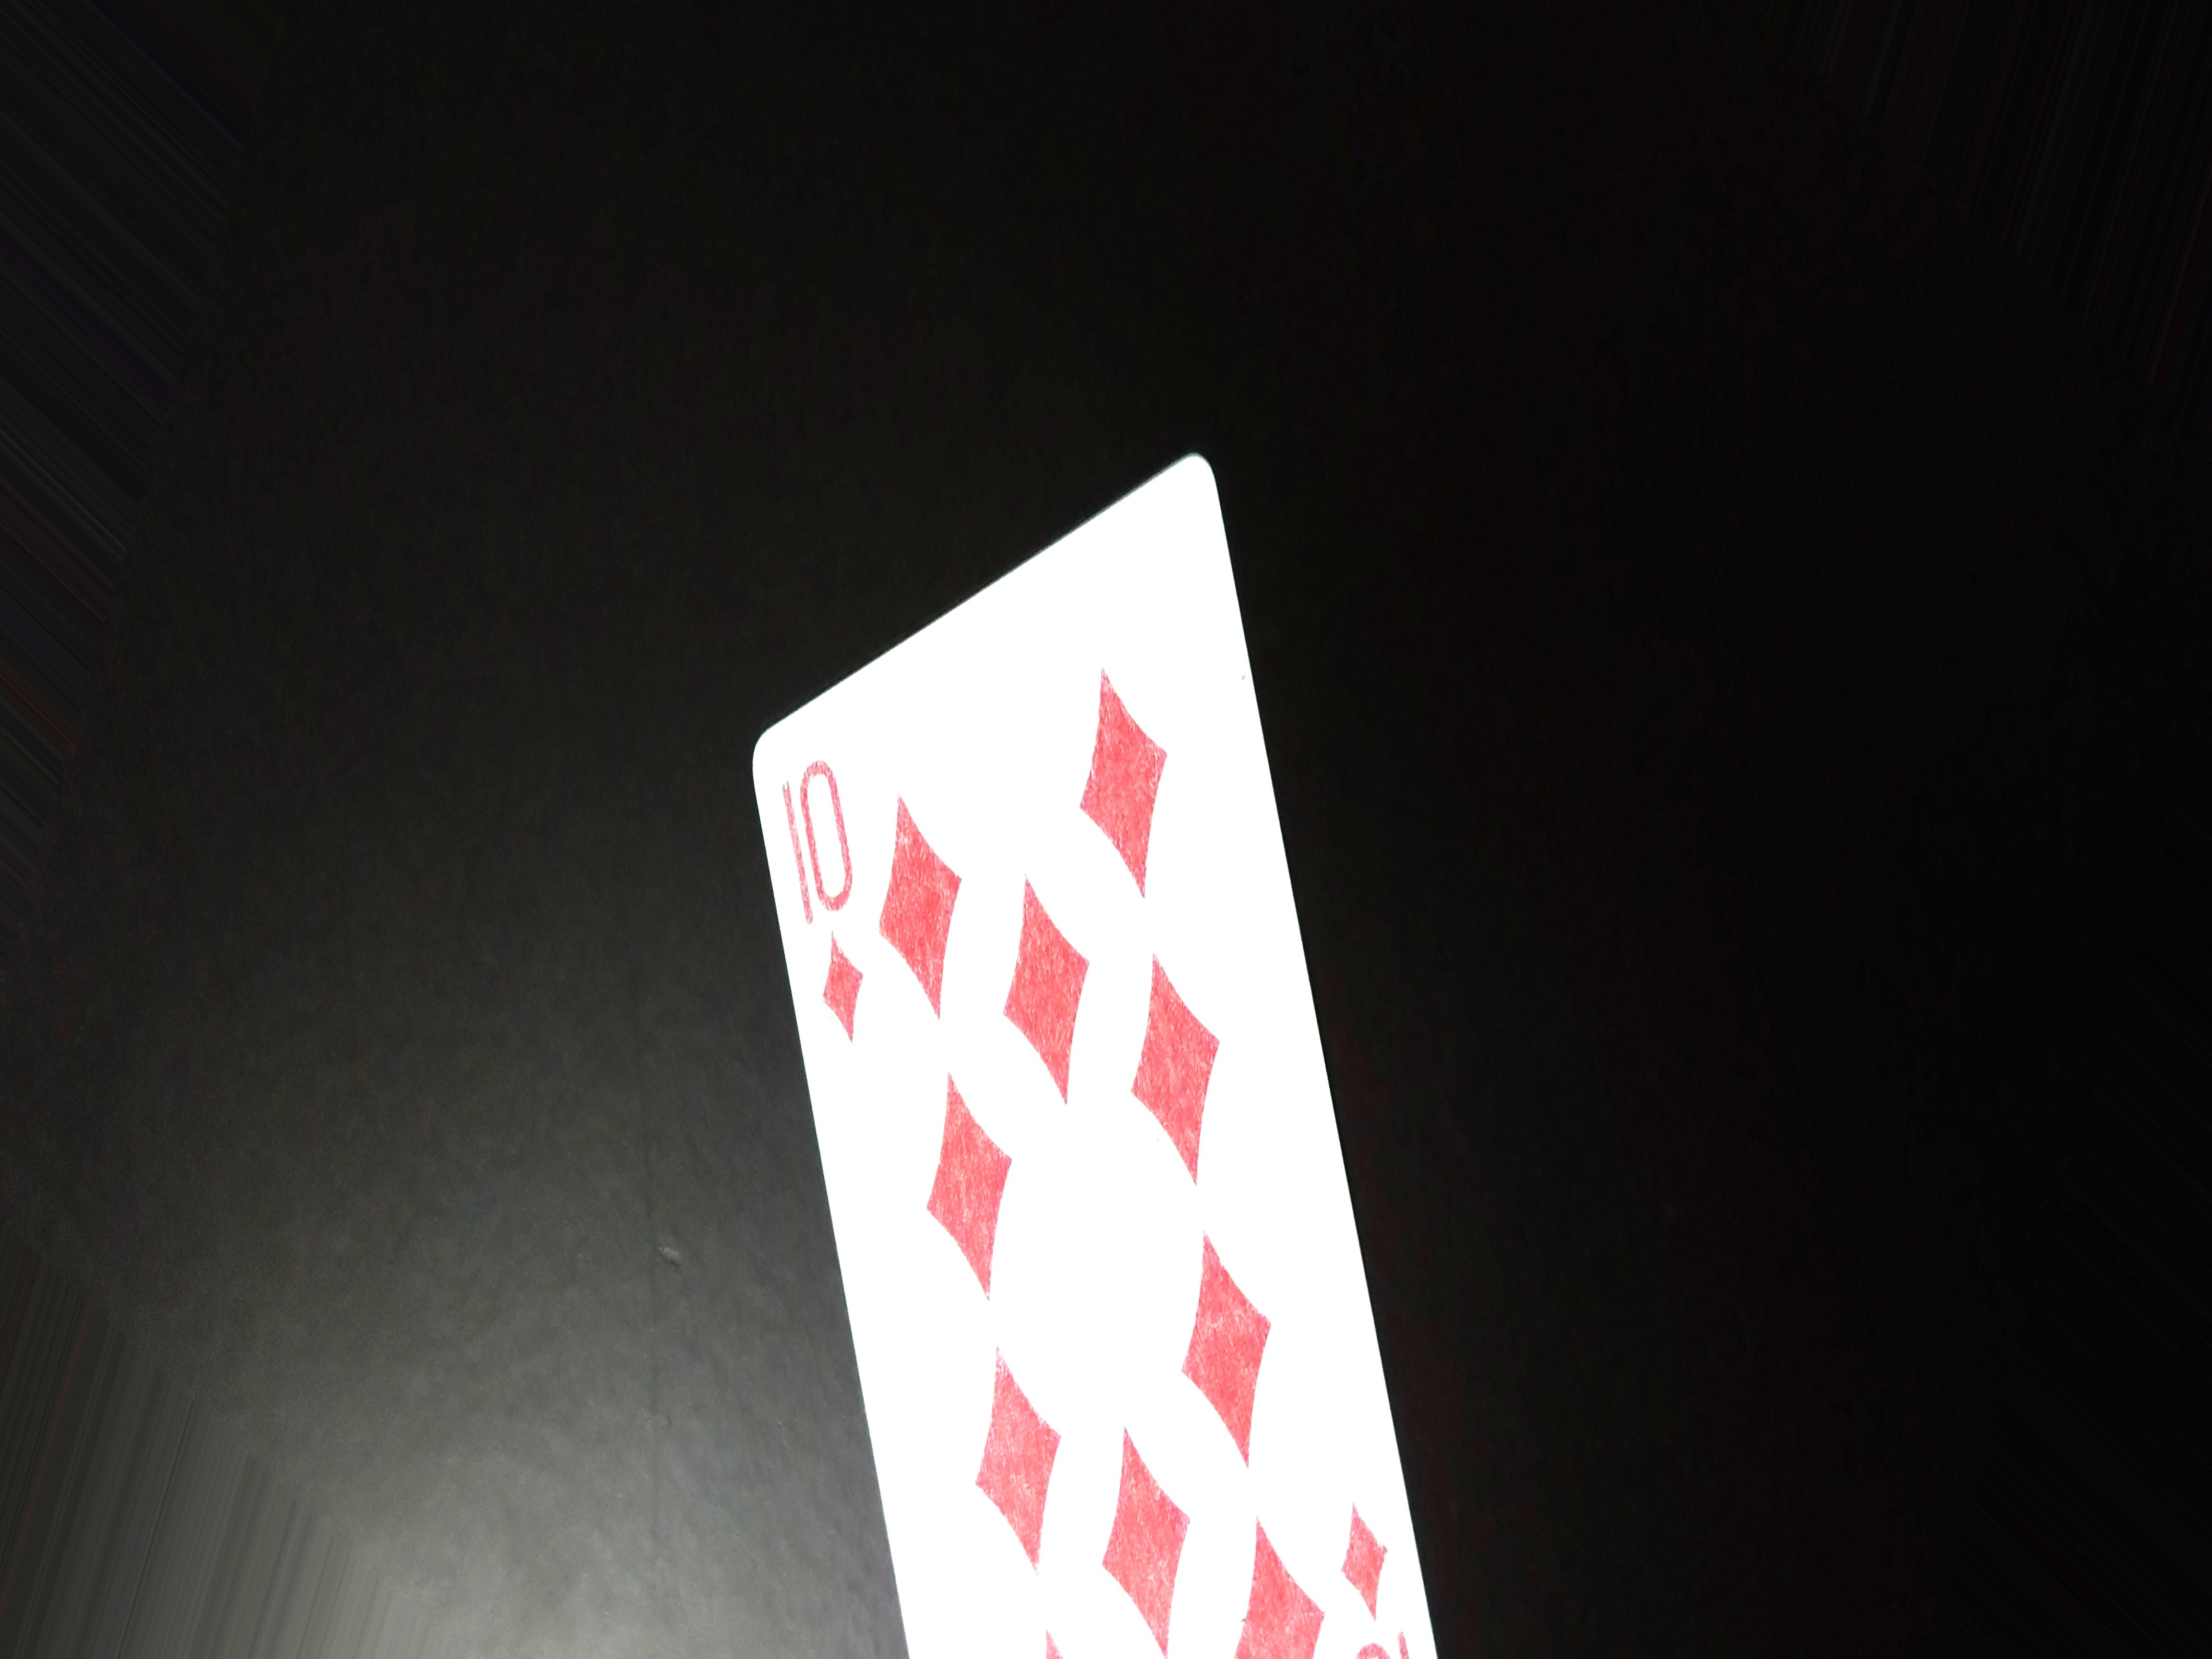10D: (772, 739, 876, 1030)
